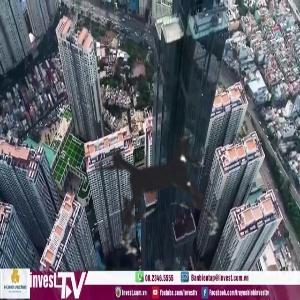drone: (51, 79, 271, 299)
